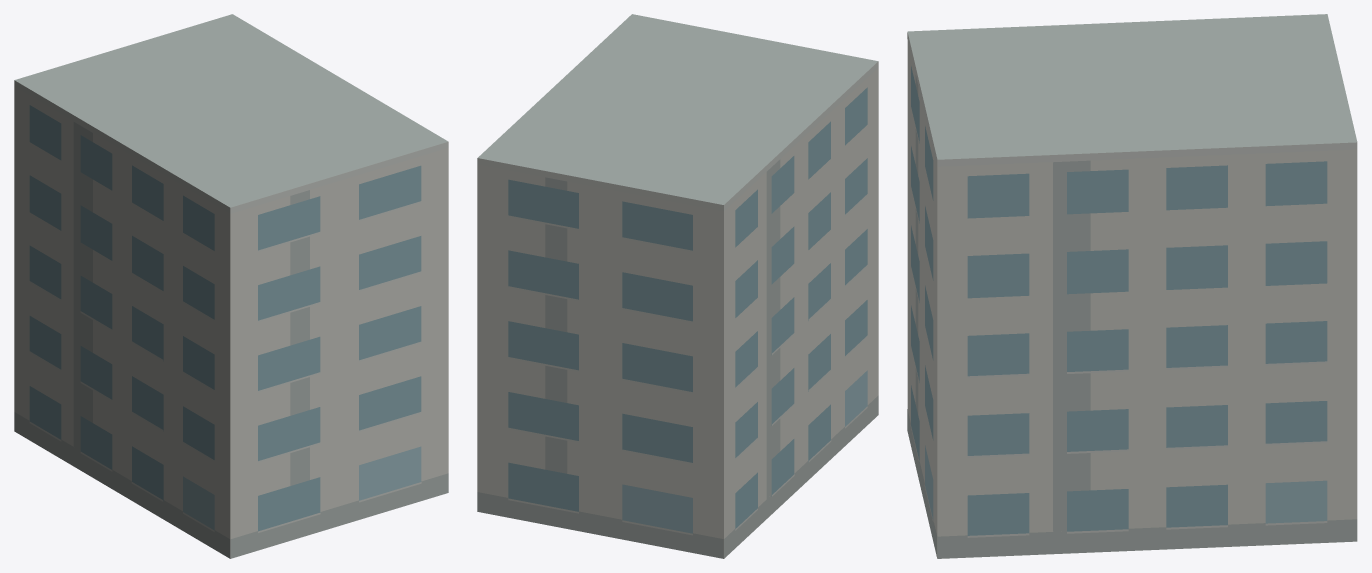
File: survey-upis-32743200.glb
The picture shows the model from 3 angles, left to right: view 1: azimuth 30°, elevation 25°; view 2: azimuth 150°, elevation 25°; view 3: azimuth 270°, elevation 25°; orthographic projection. The views are drawn at different scales.
Parts seen in each view (by area): view 1: survey-upis-32743200.tmp; view 2: survey-upis-32743200.tmp; view 3: survey-upis-32743200.tmp.
Part boxes in pixels (x1,y1,x2,y2): survey-upis-32743200.tmp: [14, 14, 448, 558]; survey-upis-32743200.tmp: [477, 14, 878, 558]; survey-upis-32743200.tmp: [907, 14, 1357, 558].
Size of the model in its own units: 10.58 by 13.5 by 13.81.
